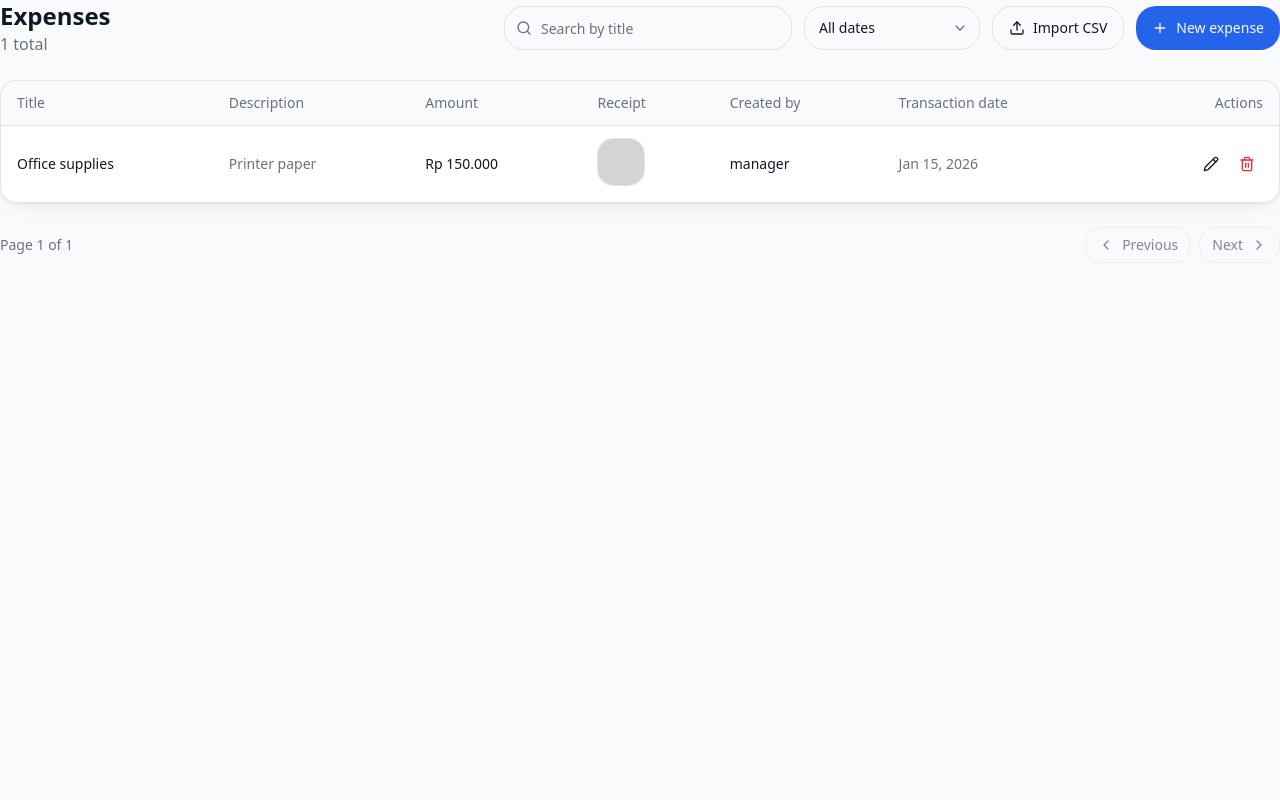
Test: AdminExpensesPage › opens the import dialog when Import CSV is clicked
Expected: the text "Office supplies" is shown, [17,154,114,174]
Click the button with test id "open-import-dialog" at (1058, 28), box [992,6,1124,50]
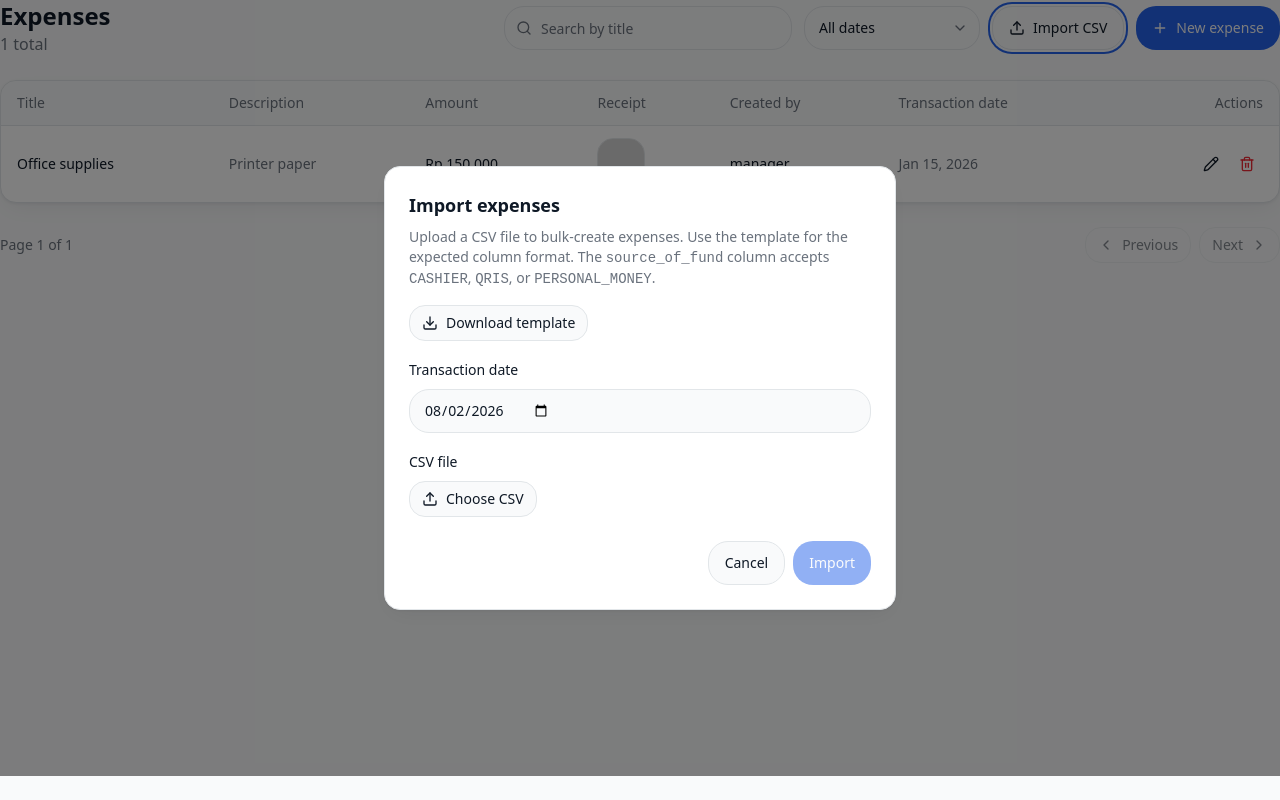
Expected: the element with test id "expense-import-dialog" is shown, [409,191,871,585]
Expected: the button with test id "download-import-template" is shown, [409,305,588,341]
